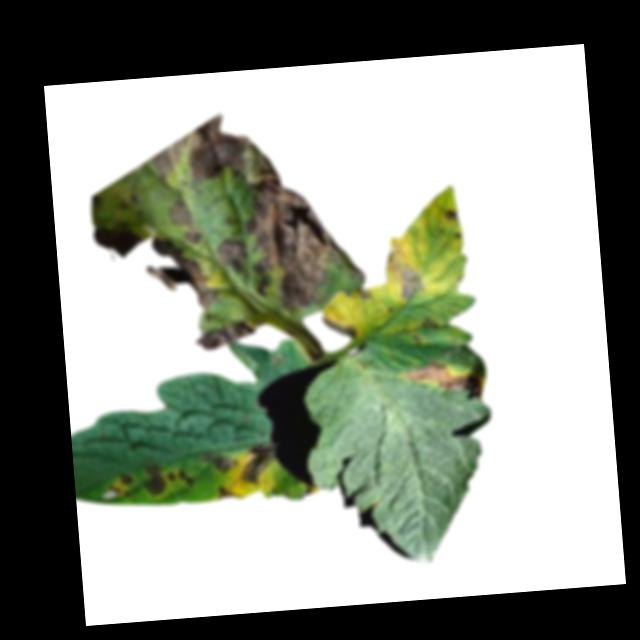Early_blight: (236, 173, 347, 318), (148, 108, 266, 189), (143, 233, 222, 316), (401, 359, 487, 408), (192, 318, 254, 357), (383, 247, 423, 302), (87, 226, 144, 264), (235, 440, 276, 485), (217, 235, 251, 278), (99, 472, 136, 504), (164, 192, 194, 230), (323, 316, 357, 344), (140, 463, 164, 501), (198, 449, 231, 476), (164, 465, 195, 491), (212, 483, 239, 505), (443, 208, 458, 227), (355, 287, 371, 304)
